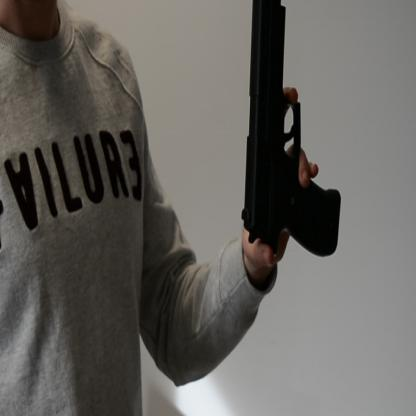gun: (240, 0, 342, 259)
